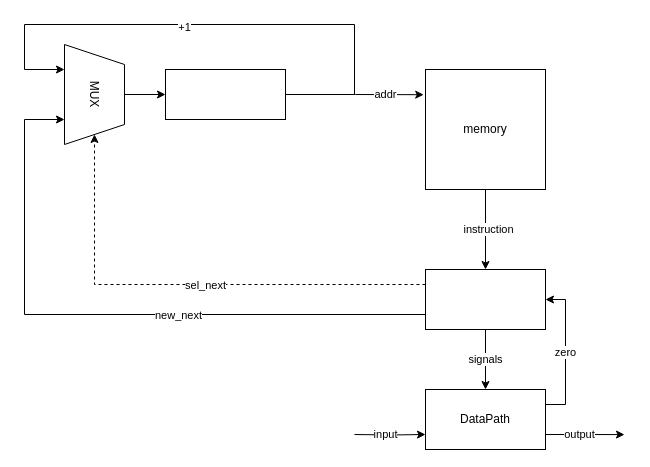
Some shapes in this 650 by 467 pixel diagram are drawn without their labels. Each missing label, with the centre of its shape:
instruction decoder: (x=485, y=299)
instruction pointer: (x=225, y=94)
